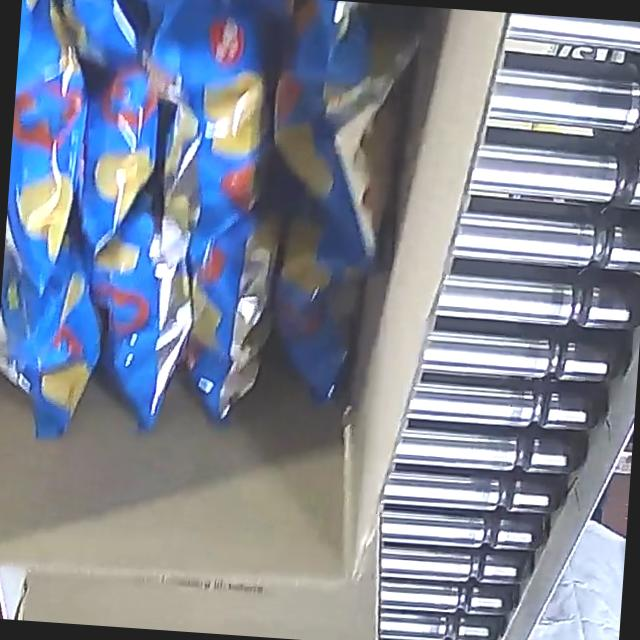paprika: (0, 0, 440, 467)
